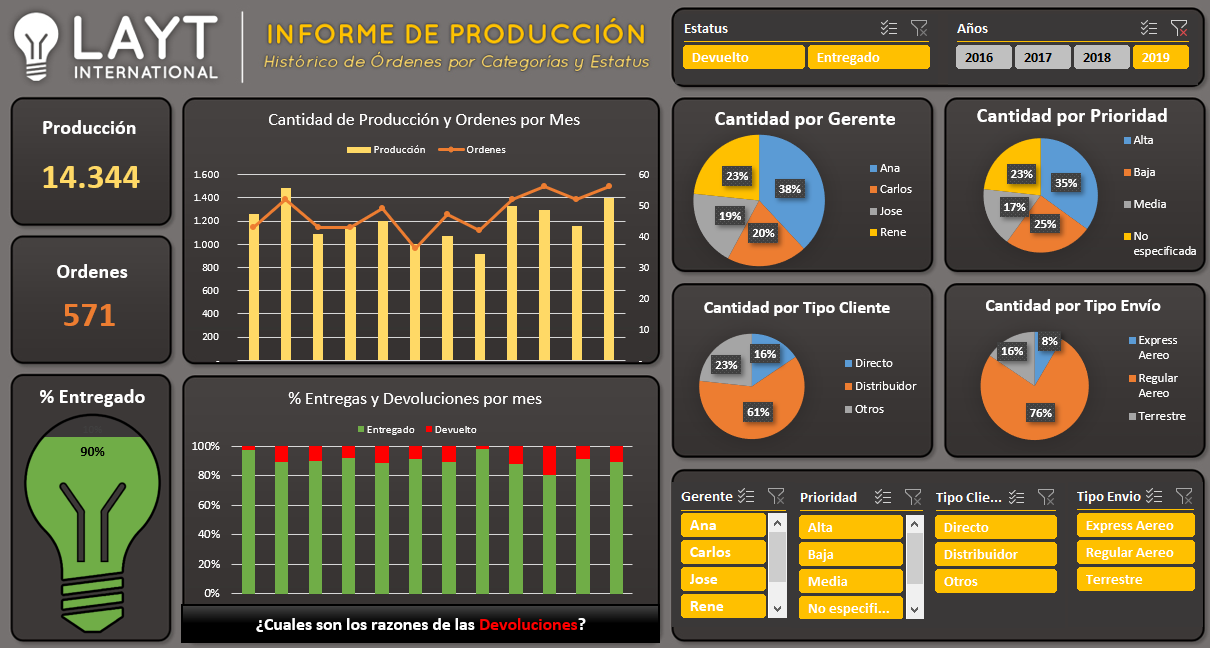

The dashboard page shown, as its layout file describes it:
{"tool":"powerbi","page":{"name":"Informe 1","canvas":[1280,720],"ordinal":2},"visuals":[{"type":"card","title":"Producción","fields":{"Values":["Sum(TablaTransacciones.Cantidad)"]},"box":[15.8,122.6,162,105.8],"z":0},{"type":"slicer","title":"Año","fields":{"Values":["TablaTransacciones.Fecha.Variación.Jerarquía de fechas.Año"]},"box":[982.1,14.6,298.1,83.2],"z":1000},{"type":"slicer","title":"Estatus","fields":{"Values":["TablaEstatus.Estatus"]},"box":[715.5,14.6,266.6,83.2],"z":2000},{"type":"card","title":"Ordenes","fields":{"Values":["CountNonNull(TablaTransacciones.Cantidad)"]},"box":[15.8,275.6,162,111.4],"z":3000},{"type":"lineStackedColumnComboChart","title":"Cantidad de Producción y Ordenes por Mes","fields":{"Category":["TablaTransacciones.Fecha.Variación.Jerarquía de fechas.Mes"],"Y":["Sum(TablaTransacciones.Cantidad)"],"Y2":["CountNonNull(TablaTransacciones.Cantidad)"]},"box":[193.5,114.8,497.2,283.5],"z":4000},{"type":"hundredPercentStackedColumnChart","title":"% Entregas y Devoluciones por Mes","fields":{"Category":["TablaTransacciones.Fecha.Variación.Jerarquía de fechas.Año","TablaTransacciones.Fecha.Variación.Jerarquía de fechas.Mes"],"Y":["Sum(TablaTransacciones.Cantidad)"],"Series":["EstatusOrden.Estatus"]},"box":[193.5,415.1,473.6,262.1],"z":5000},{"type":"hundredPercentStackedColumnChart","fields":{"Y":["Sum(TablaTransacciones.Cantidad)"],"Series":["EstatusOrden.Estatus"]},"box":[16,463,162.3,236.8],"z":6000},{"type":"hundredPercentStackedColumnChart","fields":{"Y":["Sum(TablaTransacciones.Cantidad)"],"Series":["EstatusOrden.Estatus"]},"box":[0,463,115.8,236.8],"z":7000},{"type":"hundredPercentStackedColumnChart","fields":{"Y":["Sum(TablaTransacciones.Cantidad)"],"Series":["EstatusOrden.Estatus"]},"box":[86.6,463.5,112.5,236.2],"z":8000},{"type":"image","box":[14.6,472.5,166.5,227.2],"z":9000},{"type":"card","title":"% Entregado","fields":{"Values":["CountNonNull(TablaTransacciones.Cantidad)"]},"box":[15.8,424.1,162,31.5],"z":10000},{"type":"pieChart","title":"Cantidad por Gerente","fields":{"Category":["TablaTransacciones.Gerente"],"Y":["Sum(TablaTransacciones.Cantidad)"]},"box":[707.6,114.8,275.6,183.4],"z":11000},{"type":"pieChart","title":"Cantidad por Tipo Cliente","fields":{"Y":["Sum(TablaTransacciones.Cantidad)"],"Category":["TablaTransacciones.Tipo Cliente"]},"box":[707.6,315,275.6,205.9],"z":12000},{"type":"pieChart","title":"Cantidad por Prioridad","fields":{"Y":["Sum(TablaTransacciones.Cantidad)"],"Category":["TablaTransacciones.Prioridad"]},"box":[993.4,114.8,275.6,192.4],"z":13000},{"type":"pieChart","title":"Cantidad por Tipo Envío","fields":{"Y":["Sum(TablaTransacciones.Cantidad)"],"Category":["TablaTransacciones.Tipo Envio"]},"box":[993.4,315,275.6,195.8],"z":14000},{"type":"slicer","fields":{"Values":["TablaTransacciones.Gerente"]},"box":[712.1,531,109.1,156.4],"z":15000},{"type":"slicer","fields":{"Values":["TablaTransacciones.Prioridad"]},"box":[823.5,531,158.6,156.4],"z":16000},{"type":"slicer","fields":{"Values":["TablaTransacciones.Tipo Cliente"]},"box":[984.4,531,131.6,156.4],"z":17000},{"type":"slicer","fields":{"Values":["TablaTransacciones.Tipo Envio"]},"box":[1119.4,531,149.6,156.4],"z":18000},{"type":"actionButton","box":[193.5,669.4,497.2,39.4],"z":18001}]}

Visuals, with their boxes on the page's 1280x720 design canvas (x1, y1, x2, y2). These are canvas units, not pixel positions in the 1210x648 screenshot, which may show the page scaled, cropped or inside an application window:
"Producción" card: (x1=16, y1=123, x2=178, y2=228)
"Año" slicer: (x1=982, y1=15, x2=1280, y2=98)
"Estatus" slicer: (x1=716, y1=15, x2=982, y2=98)
"Ordenes" card: (x1=16, y1=276, x2=178, y2=387)
"Cantidad de Producción y Ordenes por Mes" lineStackedColumnComboChart: (x1=194, y1=115, x2=691, y2=398)
"% Entregas y Devoluciones por Mes" hundredPercentStackedColumnChart: (x1=194, y1=415, x2=667, y2=677)
hundredPercentStackedColumnChart - Sum(TablaTransacciones.Cantidad) x EstatusOrden.Estatus: (x1=16, y1=463, x2=178, y2=700)
hundredPercentStackedColumnChart - Sum(TablaTransacciones.Cantidad) x EstatusOrden.Estatus: (x1=0, y1=463, x2=116, y2=700)
hundredPercentStackedColumnChart - Sum(TablaTransacciones.Cantidad) x EstatusOrden.Estatus: (x1=87, y1=464, x2=199, y2=700)
image: (x1=15, y1=472, x2=181, y2=700)
"% Entregado" card: (x1=16, y1=424, x2=178, y2=456)
"Cantidad por Gerente" pieChart: (x1=708, y1=115, x2=983, y2=298)
"Cantidad por Tipo Cliente" pieChart: (x1=708, y1=315, x2=983, y2=521)
"Cantidad por Prioridad" pieChart: (x1=993, y1=115, x2=1269, y2=307)
"Cantidad por Tipo Envío" pieChart: (x1=993, y1=315, x2=1269, y2=511)
slicer - TablaTransacciones.Gerente: (x1=712, y1=531, x2=821, y2=687)
slicer - TablaTransacciones.Prioridad: (x1=824, y1=531, x2=982, y2=687)
slicer - TablaTransacciones.Tipo Cliente: (x1=984, y1=531, x2=1116, y2=687)
slicer - TablaTransacciones.Tipo Envio: (x1=1119, y1=531, x2=1269, y2=687)
actionButton: (x1=194, y1=669, x2=691, y2=709)
